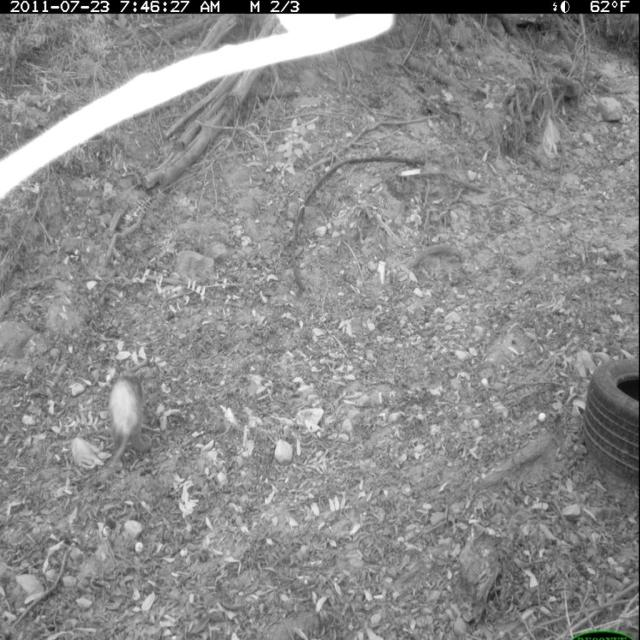opossum: (92, 363, 158, 485)
